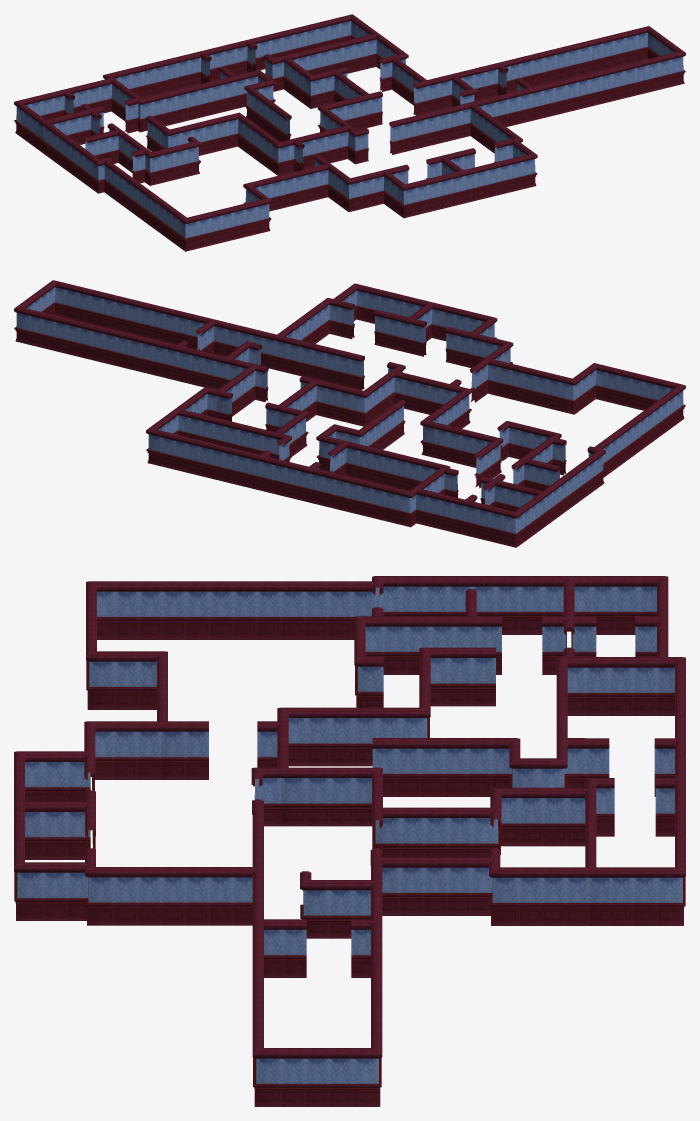
The model's file is Walls.fbx.
The picture shows the model from 3 angles, top to bottom: view 1: azimuth 30°, elevation 25°; view 2: azimuth 150°, elevation 25°; view 3: azimuth 270°, elevation 25°; orthographic projection. The views are drawn at different scales.
Visible parts, largest first — view 1: Corridor_Wall_Corner_4, Corridor_Wall_Corner_1, Corridor_Wall_Corner_7, Corridor_Wall_Corner_25, Corridor_Wall_Corner_23, Corridor_Wall_Corner_30, Corridor_Wall_Corner_37, Corridor_Wall_Corner_22, Corridor_Wall_Corner_26, Corridor_Wall_Corner_24, Corridor_Wall_Corner_15, Corridor_Wall_Corner_9 (+90 smaller); view 2: Corridor_Wall_Corner_12, Corridor_Wall_Corner_5, Corridor_Wall_Corner_27, Corridor_Wall_Corner_38, Corridor_Wall_Corner_21, Corridor_Wall_Corner_17, Corridor_Wall_Corner_3, Corridor_Wall_Corner_6, Corridor_Wall_Corner_8, Corridor_Wall_Corner_32, Corridor_Wall_Corner_2, Corridor_Wall_Corner_10 (+100 smaller); view 3: Corridor_Wall_Corner_6, Corridor_Wall_Corner_18, Corridor_Wall_Corner, Corridor_Wall_Corner_20, Corridor_Wall_Corner_9, Corridor_Wall_Corner_10, Corridor_Wall_Corner_3, Corridor_Wall_Corner_11, Corridor_Wall_Corner_28, Corridor_Wall_Corner_38, Corridor_Wall_Corner_8, Corridor_Wall_Straight_175 (+109 smaller).
Boxes of the visible parts, bbox=[...] form: Corridor_Wall_Corner_4: bbox=[176, 213, 199, 251]; Corridor_Wall_Corner_1: bbox=[395, 180, 417, 218]; Corridor_Wall_Corner_7: bbox=[340, 174, 362, 211]; Corridor_Wall_Corner_25: bbox=[269, 138, 291, 175]; Corridor_Wall_Corner_23: bbox=[302, 71, 324, 108]; Corridor_Wall_Corner_30: bbox=[347, 126, 368, 164]; Corridor_Wall_Corner_37: bbox=[141, 148, 163, 185]; Corridor_Wall_Corner_22: bbox=[379, 56, 401, 93]; Corridor_Wall_Corner_26: bbox=[226, 112, 247, 150]; Corridor_Wall_Corner_24: bbox=[322, 69, 343, 104]; Corridor_Wall_Corner_15: bbox=[263, 54, 285, 91]; Corridor_Wall_Corner_9: bbox=[636, 26, 656, 61]; Corridor_Wall_Corner_12: bbox=[501, 507, 525, 547]; Corridor_Wall_Corner_5: bbox=[559, 374, 583, 414]; Corridor_Wall_Corner_27: bbox=[350, 386, 374, 426]; Corridor_Wall_Corner_38: bbox=[497, 421, 520, 460]; Corridor_Wall_Corner_21: bbox=[245, 364, 268, 403]; Corridor_Wall_Corner_17: bbox=[396, 487, 419, 527]; Corridor_Wall_Corner_3: bbox=[319, 298, 341, 337]; Corridor_Wall_Corner_6: bbox=[586, 363, 607, 402]; Corridor_Wall_Corner_8: bbox=[478, 358, 499, 397]; Corridor_Wall_Corner_32: bbox=[306, 379, 328, 419]; Corridor_Wall_Corner_2: bbox=[422, 302, 443, 341]; Corridor_Wall_Corner_10: bbox=[44, 280, 66, 317]; Corridor_Wall_Corner_6: bbox=[86, 642, 115, 709]; Corridor_Wall_Corner_18: bbox=[656, 858, 685, 925]; Corridor_Wall_Corner: bbox=[14, 853, 43, 920]; Corridor_Wall_Corner_20: bbox=[489, 858, 518, 925]; Corridor_Wall_Corner_9: bbox=[353, 1039, 382, 1106]; Corridor_Wall_Corner_10: bbox=[252, 1039, 281, 1106]; Corridor_Wall_Corner_3: bbox=[85, 858, 114, 925]; Corridor_Wall_Corner_11: bbox=[300, 871, 329, 938]; Corridor_Wall_Corner_28: bbox=[277, 759, 306, 826]; Corridor_Wall_Corner_38: bbox=[354, 647, 383, 707]; Corridor_Wall_Corner_8: bbox=[157, 712, 185, 779]; Corridor_Wall_Straight_175: bbox=[519, 787, 543, 846].
Bounding box in the file's own units: 4765 × 260 × 2839.
1 material, 1 textured.
